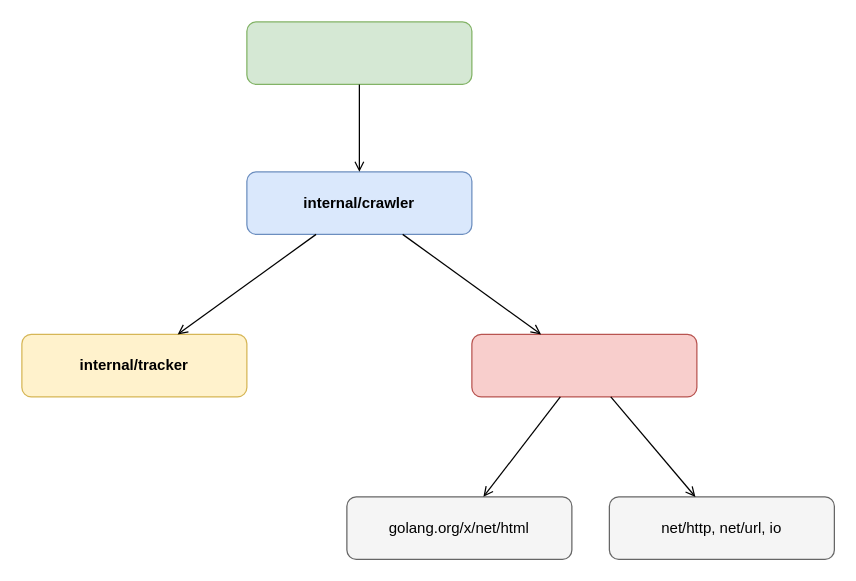
Image size: 856x581. Some labels were removed from this diagram. Here are the shapes that lost their labels. From the top down, the centre of each, then its label:
At [359,52]: "cmd/crawler".
At [584,365]: "internal/fetcher".
